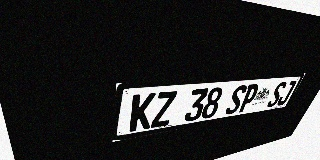3: (183, 88, 209, 122)
8: (200, 87, 225, 119)
J: (275, 80, 297, 106)
K: (129, 93, 156, 132)
P: (237, 84, 261, 113)
S: (224, 85, 248, 115), (266, 81, 288, 108)
Z: (151, 91, 177, 128)
